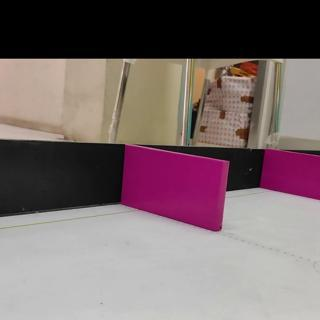xparking: (128, 159, 225, 220), (268, 151, 320, 198)
